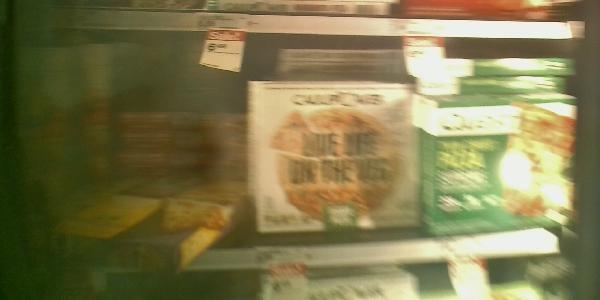pizza: (249, 80, 420, 238), (428, 97, 579, 237)
pizza1: (27, 223, 243, 266), (75, 160, 244, 188), (77, 112, 245, 136), (76, 137, 245, 160), (415, 58, 572, 77), (276, 63, 432, 82), (276, 50, 418, 67), (420, 78, 566, 93)
